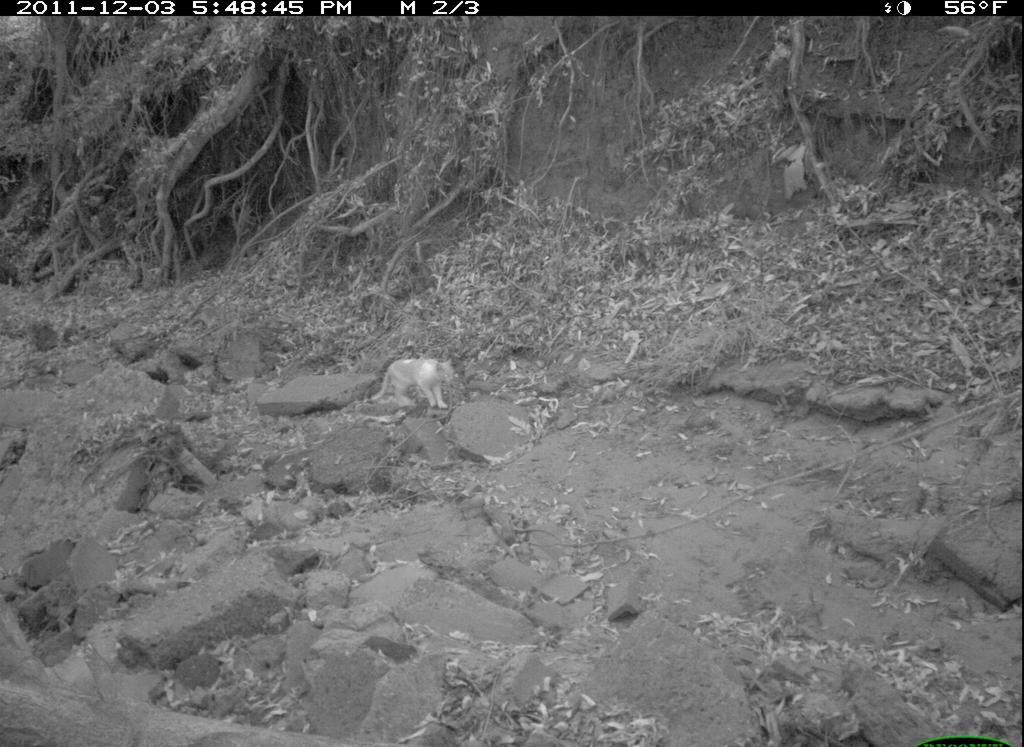cat: (363, 351, 463, 419)
